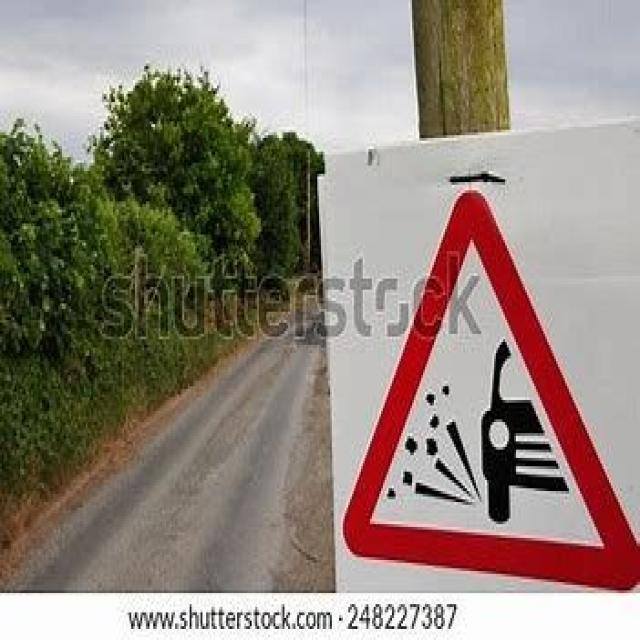loose gravel: (343, 187, 628, 582)
